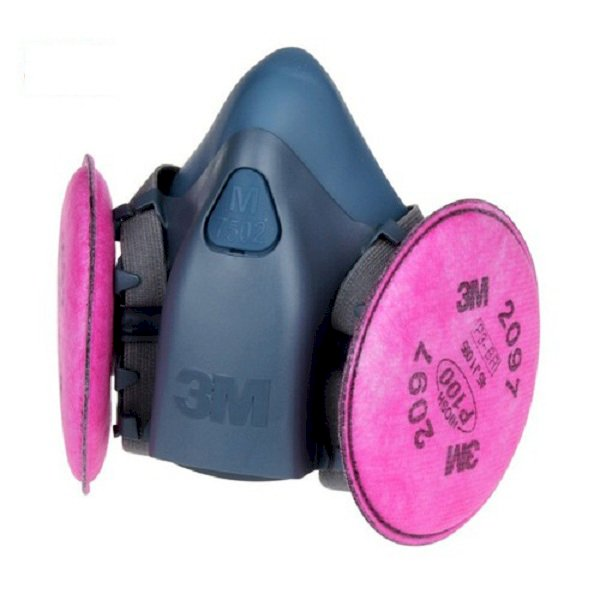3M: (170, 361, 274, 433), (453, 268, 500, 321), (437, 437, 493, 481)
